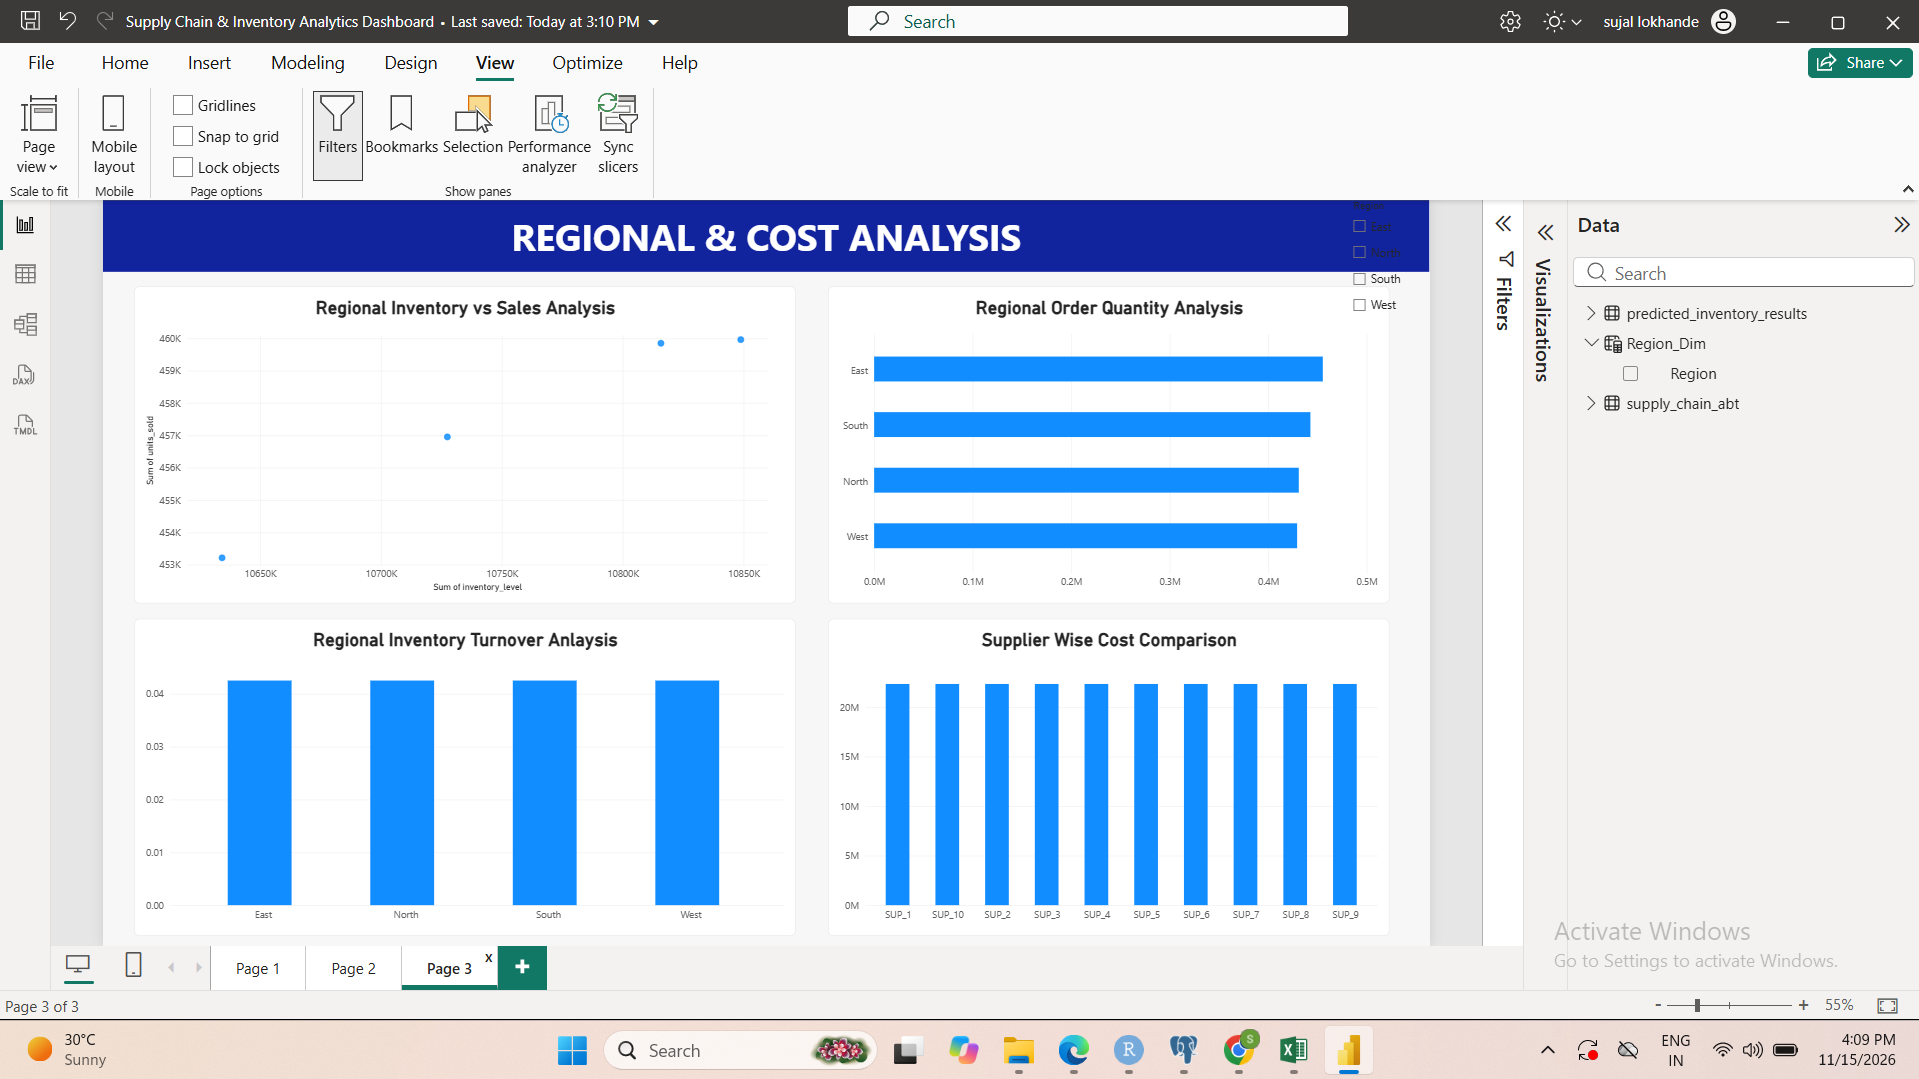

Layout of this report page (visuals, bound fields, positions):
{"tool":"powerbi","page":{"name":"Page 3","canvas":[1920,1080],"ordinal":2},"visuals":[{"type":"clusteredBarChart","title":"Regional Order Quantity Analysis","fields":{"Category":["supply_chain_abt.region"],"Y":["Sum(supply_chain_abt.order_quantity)"]},"box":[1049.6,125,813.1,459.4],"z":0},{"type":"scatterChart","title":"Regional Inventory vs Sales Analysis","fields":{"Category":["supply_chain_abt.region"],"X":["Sum(supply_chain_abt.inventory_level)"],"Y":["Sum(supply_chain_abt.units_sold)"]},"box":[46.1,125,957.3,459.4],"z":1000},{"type":"clusteredColumnChart","title":"Supplier Wise Cost Comparison","fields":{"Category":["predicted_inventory_results.supplier_id"],"Y":["predicted_inventory_results.Total Cost"]},"box":[1049.6,605.5,813.1,459.4],"z":2000},{"type":"clusteredColumnChart","title":"Regional Inventory Turnover Anlaysis","fields":{"Category":["predicted_inventory_results.region"],"Y":["predicted_inventory_results.Inventory Turnover Ratio"]},"box":[46.1,605.5,957.3,459.4],"z":3000},{"type":"textbox","box":[0,0,1920.4,103.8],"z":3001},{"type":"slicer","fields":{"Values":["Region_Dim.Region"]},"box":[1803.1,0,117.3,182.6],"z":3002}]}

Visuals, with their boxes on the page's 1920x1080 design canvas (x1, y1, x2, y2). These are canvas units, not pixel positions in the 1919x1079 screenshot, which may show the page scaled, cropped or inside an application window:
"Regional Order Quantity Analysis" clusteredBarChart: locate(1050, 125, 1863, 584)
"Regional Inventory vs Sales Analysis" scatterChart: locate(46, 125, 1003, 584)
"Supplier Wise Cost Comparison" clusteredColumnChart: locate(1050, 606, 1863, 1065)
"Regional Inventory Turnover Anlaysis" clusteredColumnChart: locate(46, 606, 1003, 1065)
textbox: locate(0, 0, 1920, 104)
slicer - Region_Dim.Region: locate(1803, 0, 1920, 183)
